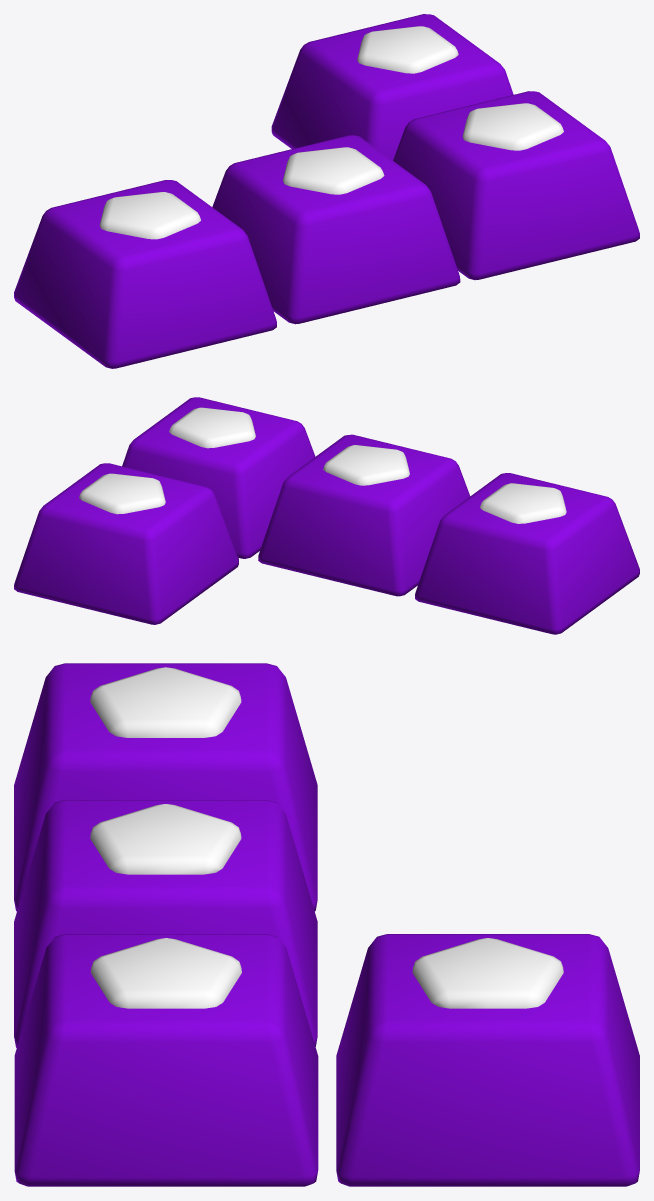
Rendered from L_piece_up_low poly 1.fbx.
3 views of the same model, one above another, from view 1: azimuth 30°, elevation 25°; view 2: azimuth 150°, elevation 25°; view 3: azimuth 270°, elevation 25° (orthographic). The views are drawn at different scales.
Parts seen in each view (by area): view 1: Cube.010; view 2: Cube.010; view 3: Cube.010.
Boxes of the visible parts, x1=… form: Cube.010: x1=14, y1=14, x2=639, y2=368; Cube.010: x1=14, y1=397, x2=639, y2=634; Cube.010: x1=14, y1=663, x2=639, y2=1186.
Size of the model in its own units: 27.41 by 7.84 by 41.34.
